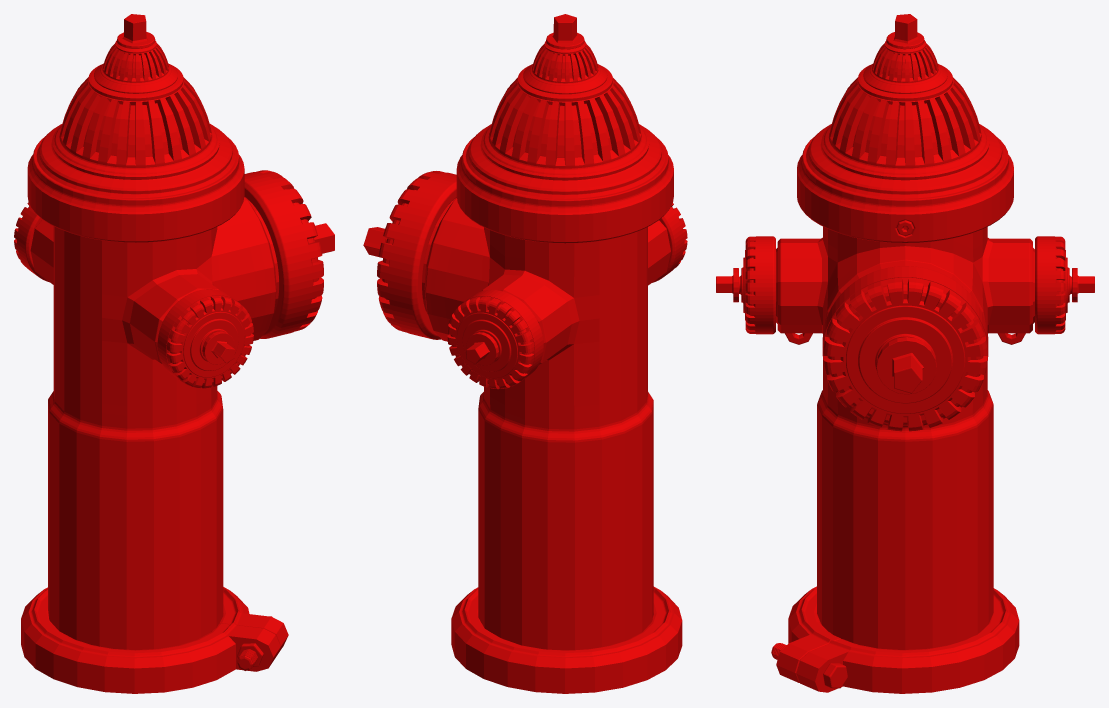
Rendered from Fire_Hydrant 1.fbx.
3 views of the same model, side by side, from view 1: azimuth 30°, elevation 25°; view 2: azimuth 150°, elevation 25°; view 3: azimuth 270°, elevation 25° (orthographic).
Parts seen in each view (by area): view 1: polySurface40; view 2: polySurface40; view 3: polySurface40.
Part boxes in pixels (left/top/right/bottom): polySurface40: left=14, top=14, right=334, bottom=693; polySurface40: left=363, top=14, right=687, bottom=693; polySurface40: left=716, top=14, right=1094, bottom=693.
Size of the model in its own units: 4.13 by 8.4 by 4.6.
